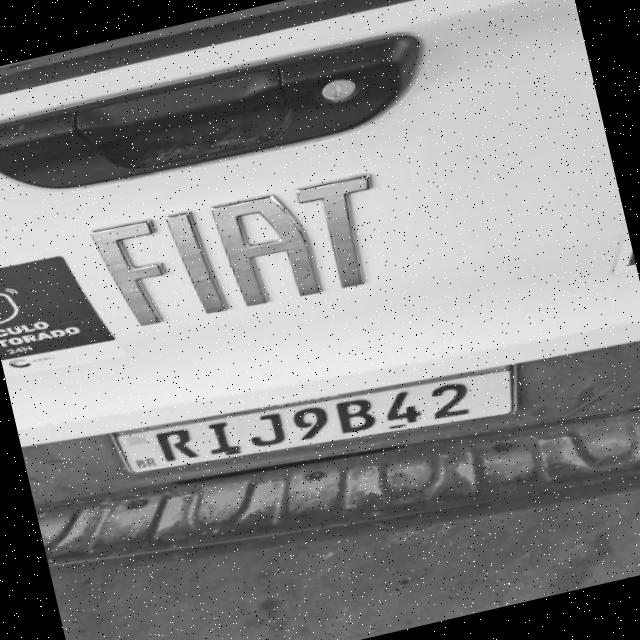placa_mercosul: (112, 366, 515, 472)
